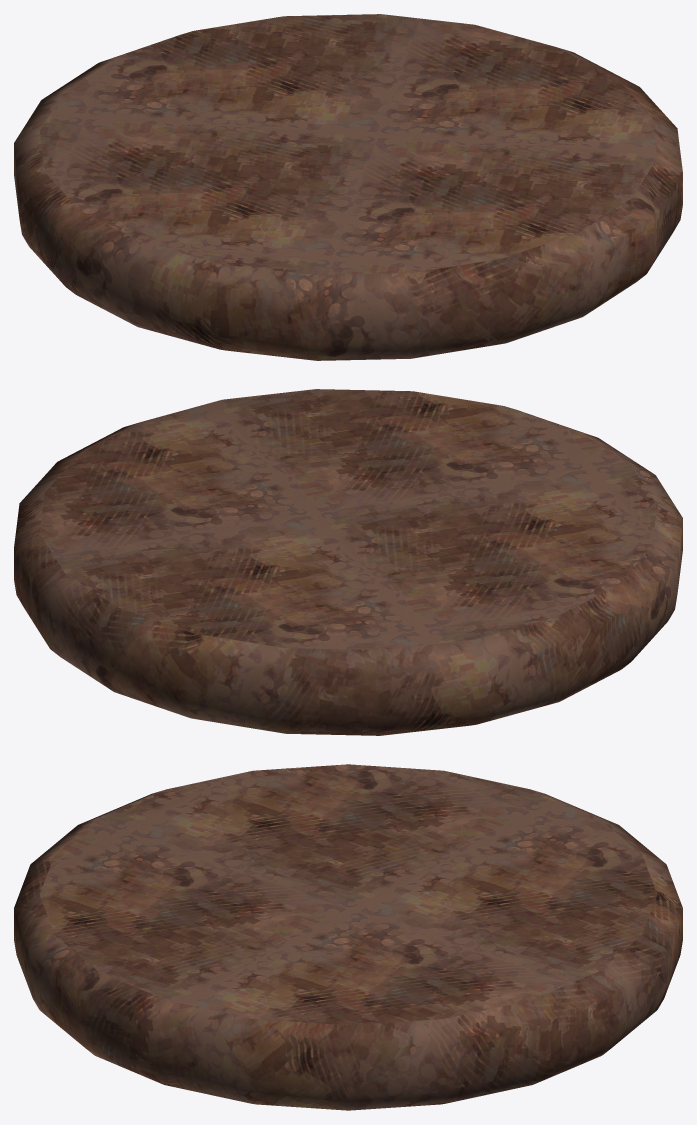
Rendered from mesh_terre.fbx.
The picture shows the model from 3 angles, top to bottom: view 1: azimuth 30°, elevation 25°; view 2: azimuth 150°, elevation 25°; view 3: azimuth 270°, elevation 25°; orthographic projection.
Visible parts, largest first — view 1: terrarium2; view 2: terrarium2; view 3: terrarium2.
Part boxes in pixels (<box>): terrarium2: <box>14,14,682,360</box>; terrarium2: <box>14,389,682,735</box>; terrarium2: <box>14,764,682,1110</box>.
Size of the model in its own units: 1.88 by 0.2842 by 1.88.
